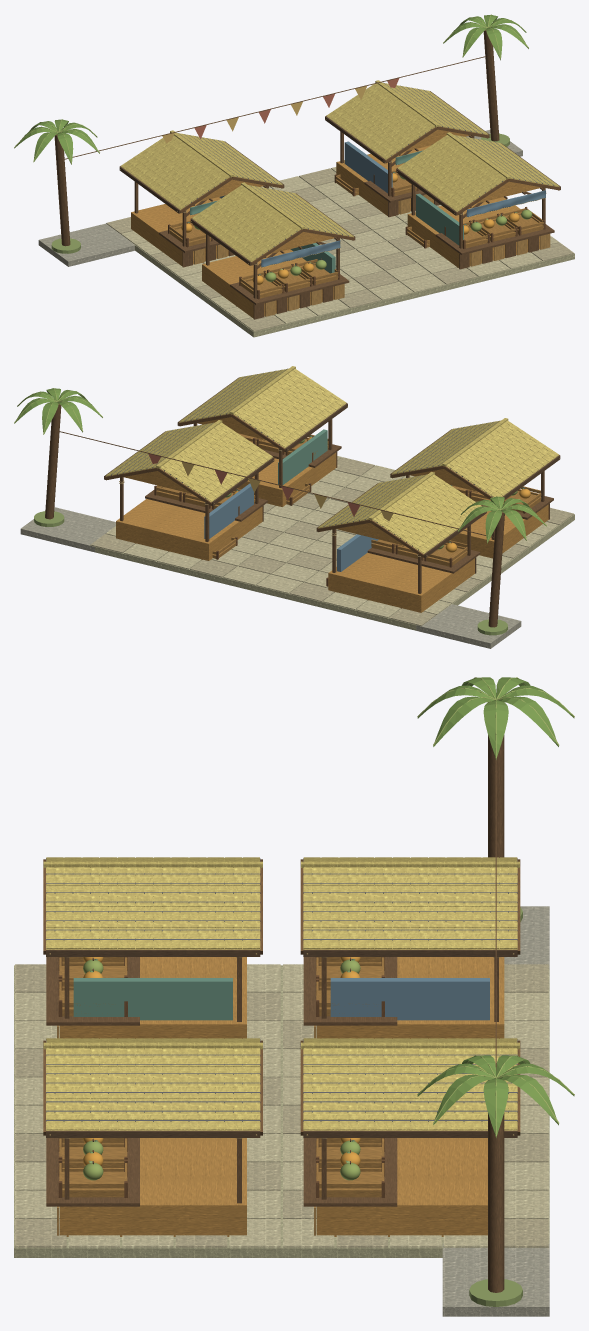
The model's file is layout_market-exterior-refined-v1.glb.
3 renders of one model, top to bottom at view 1: azimuth 30°, elevation 25°; view 2: azimuth 150°, elevation 25°; view 3: azimuth 270°, elevation 25°, orthographic. The views are drawn at different scales.
Parts seen in each view (by area): view 1: layout_market_10_独立错缝瓦片_EX_cab86a_dark_rock_surface, layout_market_01_原有建筑轮廓与构件_EX_c4bc98_dark_rock_surface, layout_market_01_原有建筑轮廓与构件_EX_ba8b49_fine_grained_wood_surfa, layout_market_01_原有建筑轮廓与构件_EX_705438_fine_grained_wood_surfa, layout_market_01_原有建筑轮廓与构件_EX_b4ab8b_dark_rock_surface, layout_market_01_原有建筑轮廓与构件_EX_a67c43_fine_grained_wood_surfa, layout_market_01_原有建筑轮廓与构件_EX_b4b18c_dark_rock_surface, layout_market_01_原有建筑轮廓与构件_EX_79994e_plain_surface, layout_market_01_原有建筑轮廓与构件_EX_a6a290_dark_rock_surface, layout_market_01_原有建筑轮廓与构件_EX_66676a_plain_surface, layout_market_01_原有建筑轮廓与构件_EX_b28b51_fine_grained_wood_surfa, layout_market_01_原有建筑轮廓与构件_EX_775838_fine_grained_wood_surfa (+12 smaller); view 2: layout_market_10_独立错缝瓦片_EX_cab86a_dark_rock_surface, layout_market_01_原有建筑轮廓与构件_EX_ba8b49_fine_grained_wood_surfa, layout_market_01_原有建筑轮廓与构件_EX_c4bc98_dark_rock_surface, layout_market_01_原有建筑轮廓与构件_EX_705438_fine_grained_wood_surfa, layout_market_01_原有建筑轮廓与构件_EX_b4ab8b_dark_rock_surface, layout_market_01_原有建筑轮廓与构件_EX_a6a290_dark_rock_surface, layout_market_01_原有建筑轮廓与构件_EX_b4b18c_dark_rock_surface, layout_market_01_原有建筑轮廓与构件_EX_a67c43_fine_grained_wood_surfa, layout_market_01_原有建筑轮廓与构件_EX_79994e_plain_surface, layout_market_01_原有建筑轮廓与构件_EX_66676a_plain_surface, layout_market_01_原有建筑轮廓与构件_EX_708d9d_plain_surface, layout_market_01_原有建筑轮廓与构件_EX_775838_fine_grained_wood_surfa (+9 smaller); view 3: layout_market_10_独立错缝瓦片_EX_cab86a_dark_rock_surface, layout_market_01_原有建筑轮廓与构件_EX_ba8b49_fine_grained_wood_surfa, layout_market_01_原有建筑轮廓与构件_EX_c4bc98_dark_rock_surface, layout_market_01_原有建筑轮廓与构件_EX_705438_fine_grained_wood_surfa, layout_market_01_原有建筑轮廓与构件_EX_b4ab8b_dark_rock_surface, layout_market_01_原有建筑轮廓与构件_EX_66676a_plain_surface, layout_market_01_原有建筑轮廓与构件_EX_a67c43_fine_grained_wood_surfa, layout_market_01_原有建筑轮廓与构件_EX_79994e_plain_surface, layout_market_01_原有建筑轮廓与构件_EX_a6a290_dark_rock_surface, layout_market_01_原有建筑轮廓与构件_EX_604a35_fine_grained_wood_surfa, layout_market_01_原有建筑轮廓与构件_EX_b4b18c_dark_rock_surface, layout_market_01_原有建筑轮廓与构件_EX_708d9d_plain_surface (+9 smaller).
Part boxes in pixels (x1=…): layout_market_10_独立错缝瓦片_EX_cab86a_dark_rock_surface: x1=121, y1=82, x2=559, y2=261; layout_market_01_原有建筑轮廓与构件_EX_c4bc98_dark_rock_surface: x1=121, y1=167, x2=559, y2=323; layout_market_01_原有建筑轮廓与构件_EX_ba8b49_fine_grained_wood_surfa: x1=131, y1=129, x2=540, y2=318; layout_market_01_原有建筑轮廓与构件_EX_705438_fine_grained_wood_surfa: x1=54, y1=29, x2=554, y2=319; layout_market_01_原有建筑轮廓与构件_EX_b4ab8b_dark_rock_surface: x1=106, y1=168, x2=574, y2=331; layout_market_01_原有建筑轮廓与构件_EX_a67c43_fine_grained_wood_surfa: x1=169, y1=170, x2=543, y2=298; layout_market_01_原有建筑轮廓与构件_EX_b4b18c_dark_rock_surface: x1=116, y1=169, x2=574, y2=337; layout_market_01_原有建筑轮廓与构件_EX_79994e_plain_surface: x1=14, y1=15, x2=528, y2=164; layout_market_01_原有建筑轮廓与构件_EX_a6a290_dark_rock_surface: x1=38, y1=130, x2=522, y2=266; layout_market_01_原有建筑轮廓与构件_EX_66676a_plain_surface: x1=178, y1=82, x2=554, y2=258; layout_market_01_原有建筑轮廓与构件_EX_b28b51_fine_grained_wood_surfa: x1=194, y1=194, x2=550, y2=316; layout_market_01_原有建筑轮廓与构件_EX_775838_fine_grained_wood_surfa: x1=119, y1=116, x2=560, y2=265; layout_market_10_独立错缝瓦片_EX_cab86a_dark_rock_surface: x1=105, y1=368, x2=558, y2=553; layout_market_01_原有建筑轮廓与构件_EX_ba8b49_fine_grained_wood_surfa: x1=116, y1=417, x2=548, y2=612; layout_market_01_原有建筑轮廓与构件_EX_c4bc98_dark_rock_surface: x1=105, y1=456, x2=558, y2=617; layout_market_01_原有建筑轮廓与构件_EX_705438_fine_grained_wood_surfa: x1=45, y1=403, x2=553, y2=627; layout_market_01_原有建筑轮廓与构件_EX_b4ab8b_dark_rock_surface: x1=90, y1=457, x2=573, y2=626; layout_market_01_原有建筑轮廓与构件_EX_a6a290_dark_rock_surface: x1=20, y1=507, x2=521, y2=648; layout_market_01_原有建筑轮廓与构件_EX_b4b18c_dark_rock_surface: x1=90, y1=457, x2=574, y2=630; layout_market_01_原有建筑轮廓与构件_EX_a67c43_fine_grained_wood_surfa: x1=156, y1=433, x2=541, y2=566; layout_market_01_原有建筑轮廓与构件_EX_79994e_plain_surface: x1=14, y1=388, x2=546, y2=543; layout_market_01_原有建筑轮廓与构件_EX_66676a_plain_surface: x1=111, y1=368, x2=498, y2=550; layout_market_01_原有建筑轮廓与构件_EX_708d9d_plain_surface: x1=204, y1=483, x2=378, y2=571; layout_market_01_原有建筑轮廓与构件_EX_775838_fine_grained_wood_surfa: x1=104, y1=403, x2=559, y2=557; layout_market_10_独立错缝瓦片_EX_cab86a_dark_rock_surface: x1=46, y1=857, x2=517, y2=1129; layout_market_01_原有建筑轮廓与构件_EX_ba8b49_fine_grained_wood_surfa: x1=59, y1=957, x2=504, y2=1236; layout_market_01_原有建筑轮廓与构件_EX_c4bc98_dark_rock_surface: x1=15, y1=964, x2=548, y2=1247; layout_market_01_原有建筑轮廓与构件_EX_705438_fine_grained_wood_surfa: x1=46, y1=701, x2=504, y2=1292; layout_market_01_原有建筑轮廓与构件_EX_b4ab8b_dark_rock_surface: x1=15, y1=964, x2=548, y2=1247; layout_market_01_原有建筑轮廓与构件_EX_66676a_plain_surface: x1=46, y1=858, x2=517, y2=1121; layout_market_01_原有建筑轮廓与构件_EX_a67c43_fine_grained_wood_surfa: x1=59, y1=957, x2=384, y2=1197; layout_market_01_原有建筑轮廓与构件_EX_79994e_plain_surface: x1=417, y1=677, x2=574, y2=1137; layout_market_01_原有建筑轮廓与构件_EX_a6a290_dark_rock_surface: x1=442, y1=906, x2=549, y2=1316; layout_market_01_原有建筑轮廓与构件_EX_604a35_fine_grained_wood_surfa: x1=46, y1=949, x2=517, y2=1137; layout_market_01_原有建筑轮廓与构件_EX_b4b18c_dark_rock_surface: x1=14, y1=965, x2=549, y2=1257; layout_market_01_原有建筑轮廓与构件_EX_708d9d_plain_surface: x1=330, y1=978, x2=489, y2=1020.
Size of the model in its own units: 39.14 by 9.47 by 20.94.
32 materials, 17 textured.
